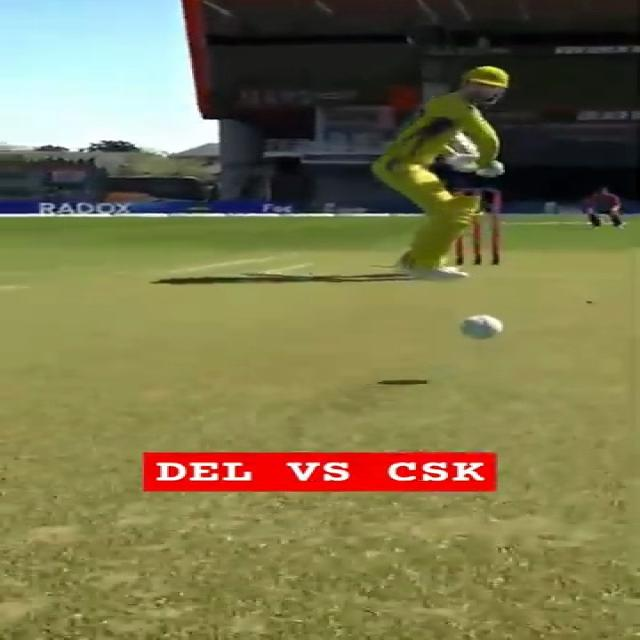ball: (459, 314, 501, 339)
